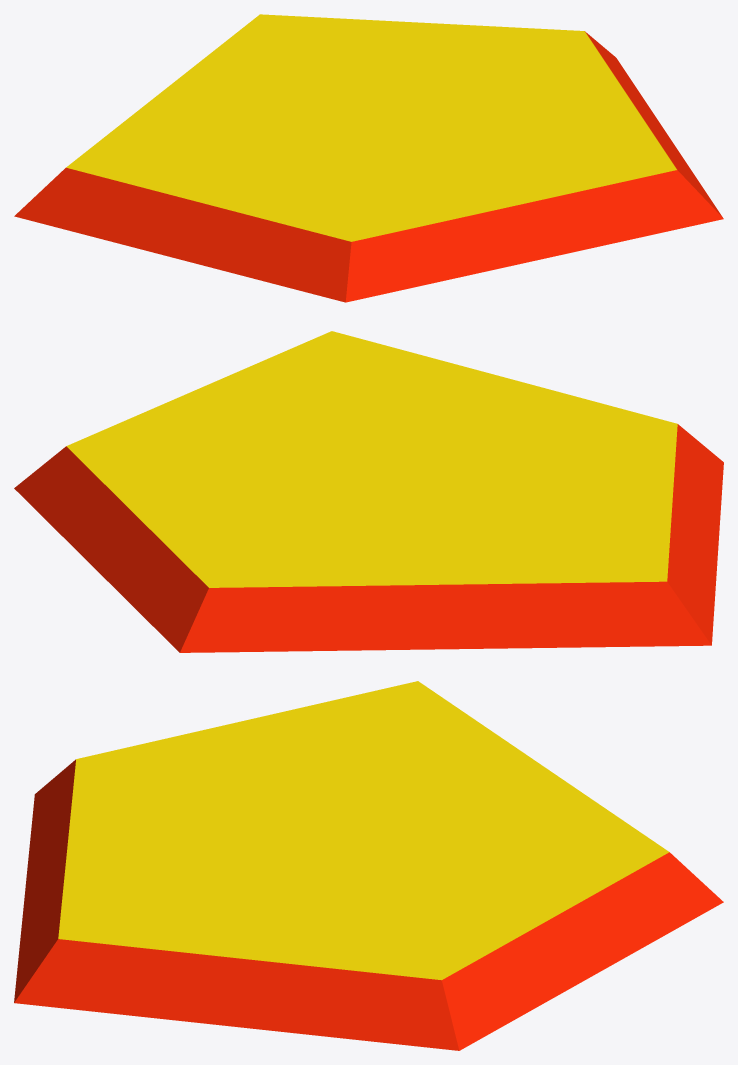
File: RockFlat1.fbx
3 renders of one model, top to bottom at view 1: azimuth 30°, elevation 25°; view 2: azimuth 150°, elevation 25°; view 3: azimuth 270°, elevation 25°, orthographic. The views are drawn at different scales.
Visible parts, largest first — view 1: RockFlat1; view 2: RockFlat1; view 3: RockFlat1.
Boxes of the visible parts, x1,y1,x2,y2 form: RockFlat1: (14,14,723,302); RockFlat1: (14,331,723,652); RockFlat1: (14,681,723,1050).
Size of the model in its own units: 2.79 by 2.41 by 0.182.
